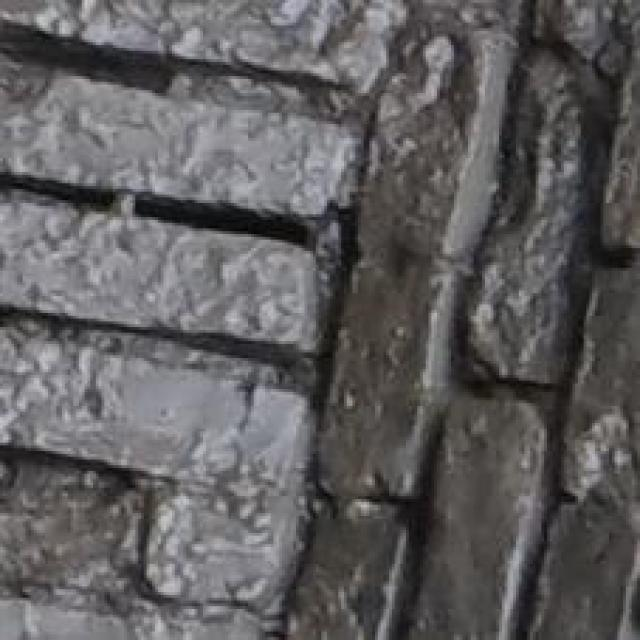Crack: (0, 21, 559, 346)
